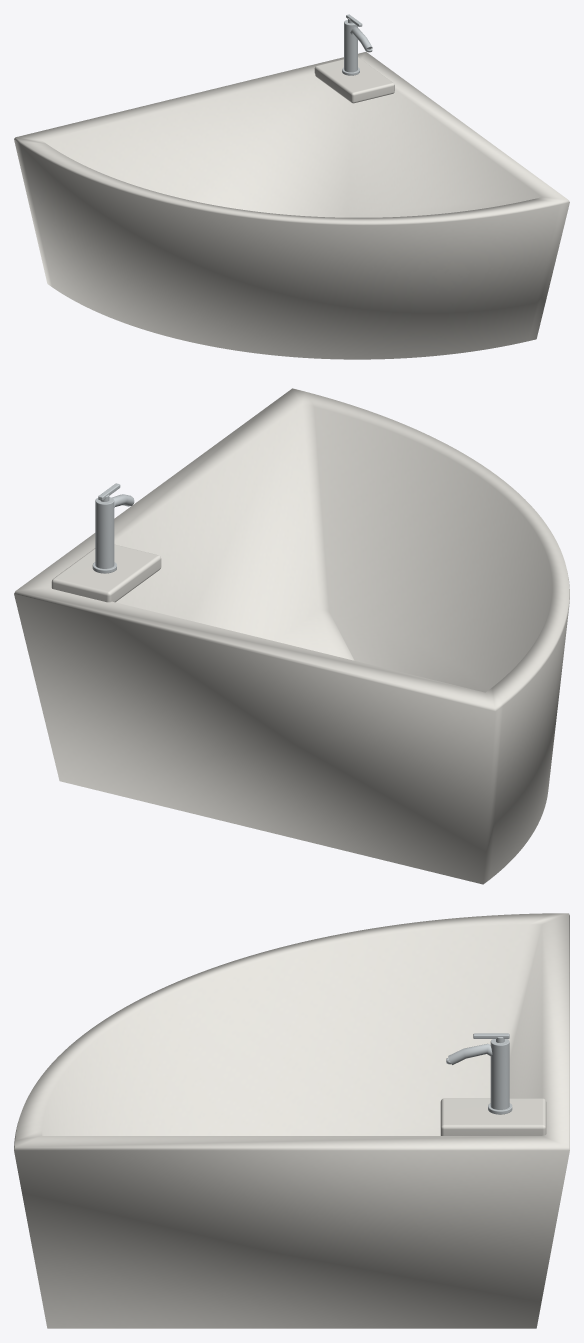
The picture shows the model from 3 angles, top to bottom: view 1: azimuth 30°, elevation 25°; view 2: azimuth 150°, elevation 25°; view 3: azimuth 270°, elevation 25°; orthographic projection. The views are drawn at different scales.
Visible parts, largest first — view 1: Bath | corner soaking shell, Bath | corner control deck, Mixer | cartridge body; view 2: Bath | corner soaking shell, Bath | corner control deck, Mixer | cartridge body; view 3: Bath | corner soaking shell, Bath | corner control deck, Mixer | cartridge body.
Part boxes in pixels (x1,y1,x2,y2): Bath | corner soaking shell: (14,52,569,359); Bath | corner control deck: (314,57,394,103); Mixer | cartridge body: (344,19,357,72); Bath | corner soaking shell: (14,388,569,884); Bath | corner control deck: (51,544,161,602); Mixer | cartridge body: (95,497,114,568); Bath | corner soaking shell: (14,913,569,1328); Bath | corner control deck: (440,1098,546,1135); Mixer | cartridge body: (490,1039,509,1109).
Bounding box in the file's own units: 1.4 × 0.7945 × 1.4.
Materials: 2 (2 with a texture image).
